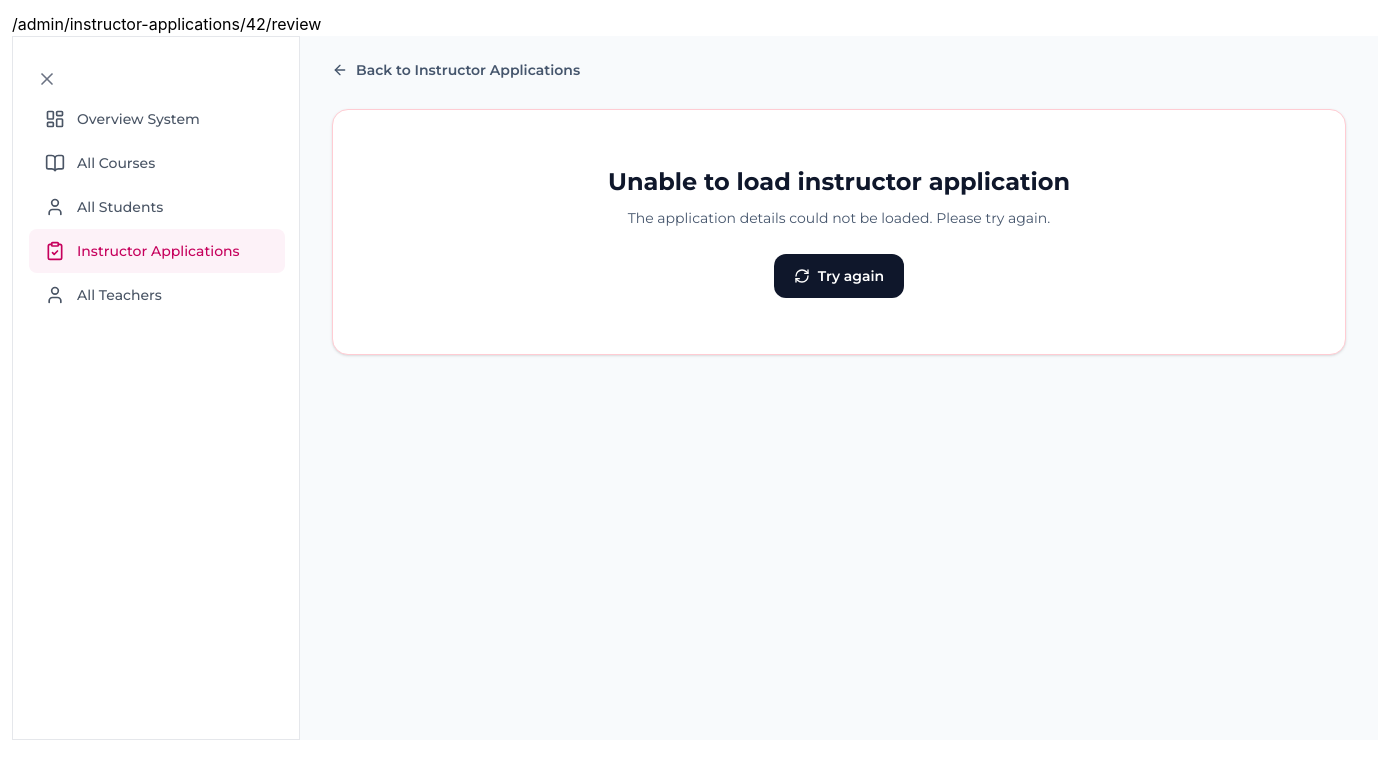
Test: Instructor application review detail › shows an error state and retries the detail request
The width and height of the screenshot is (1378, 780).
Expected: the message shows "Unable to load instructor application", [608,167,1070,196]
Click the button "Try again": (839, 276) [774,254,904,298]
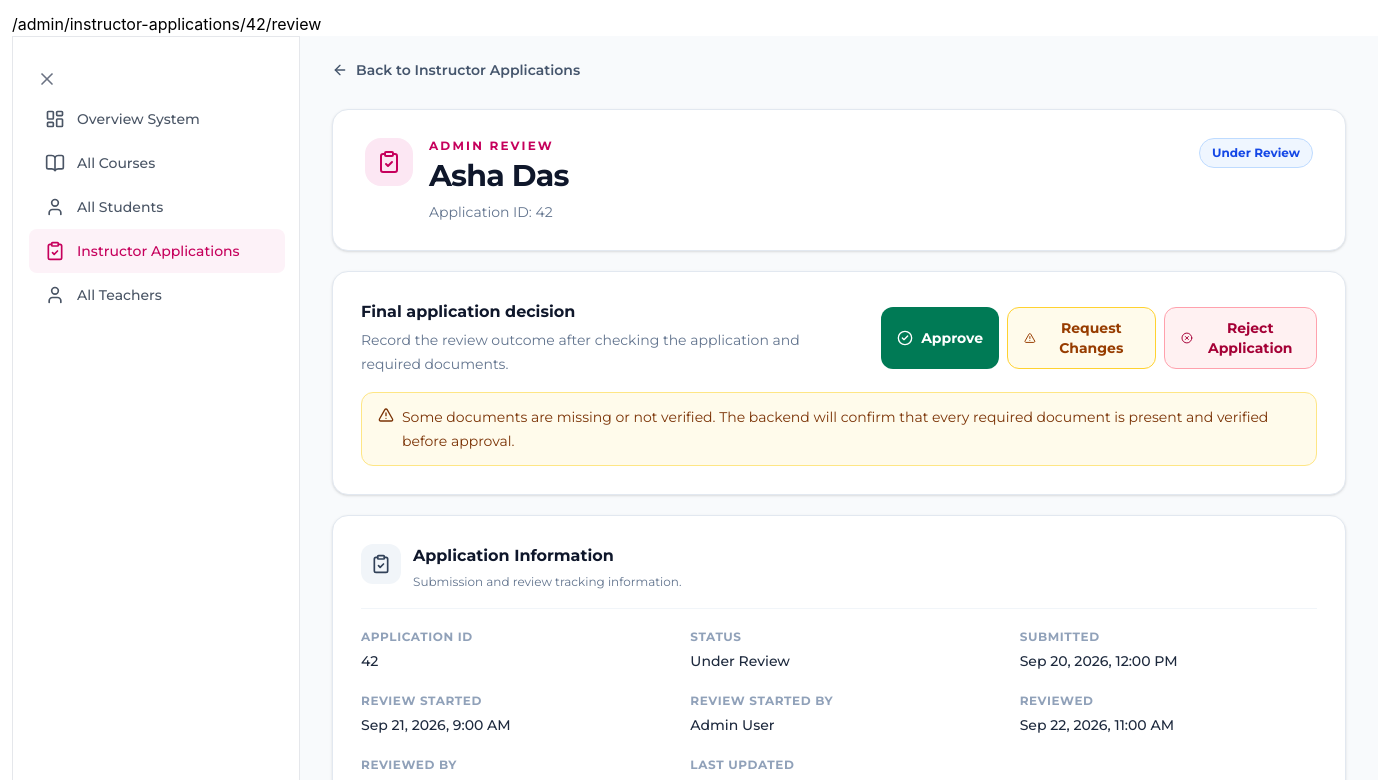
Expected: the heading "Asha Das" is shown, [429,158,569,194]
